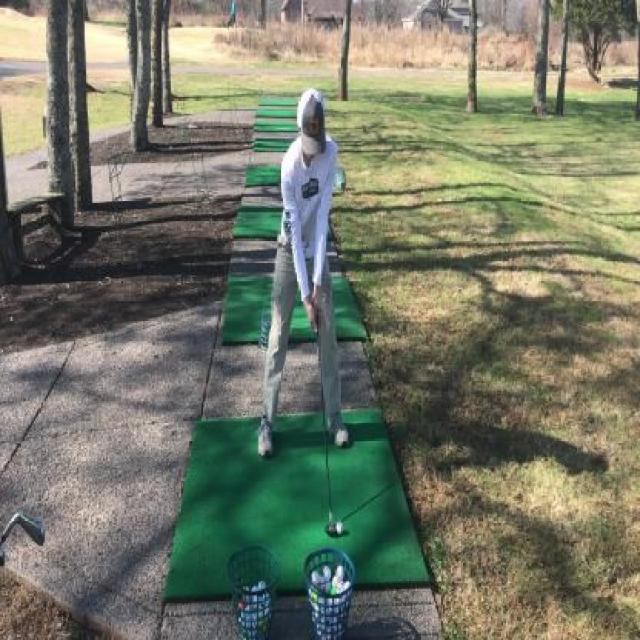club head: (324, 510, 336, 536)
